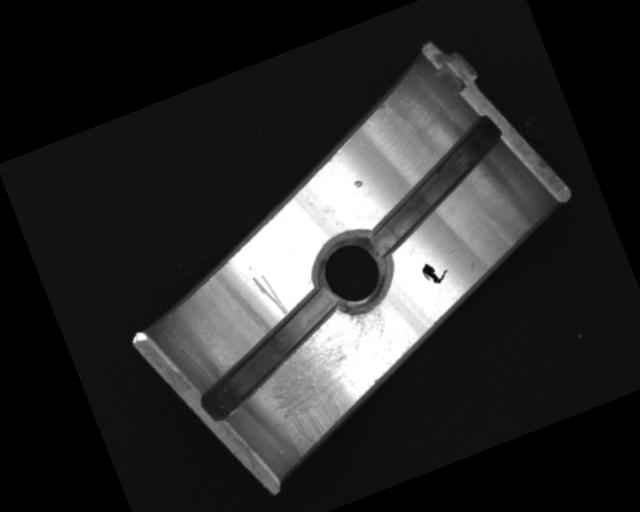blot: (419, 255, 451, 288)
bruise: (352, 177, 366, 190)
gap: (340, 113, 527, 261), (179, 285, 359, 423)
hole: (303, 224, 404, 325)
nick: (249, 268, 289, 324)
scratch: (250, 298, 430, 461)
